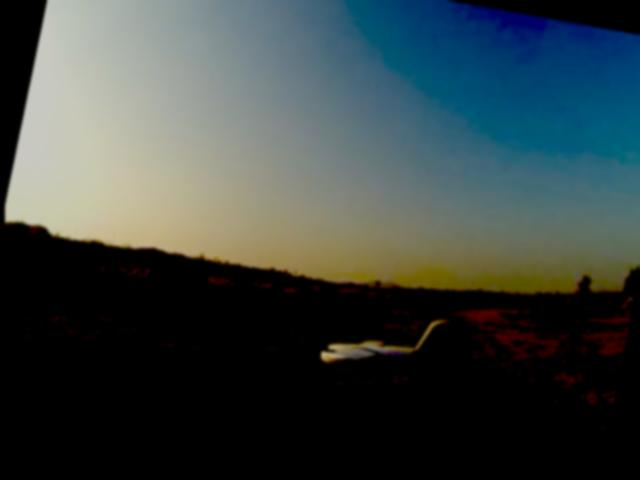uav: (303, 286, 460, 406)
